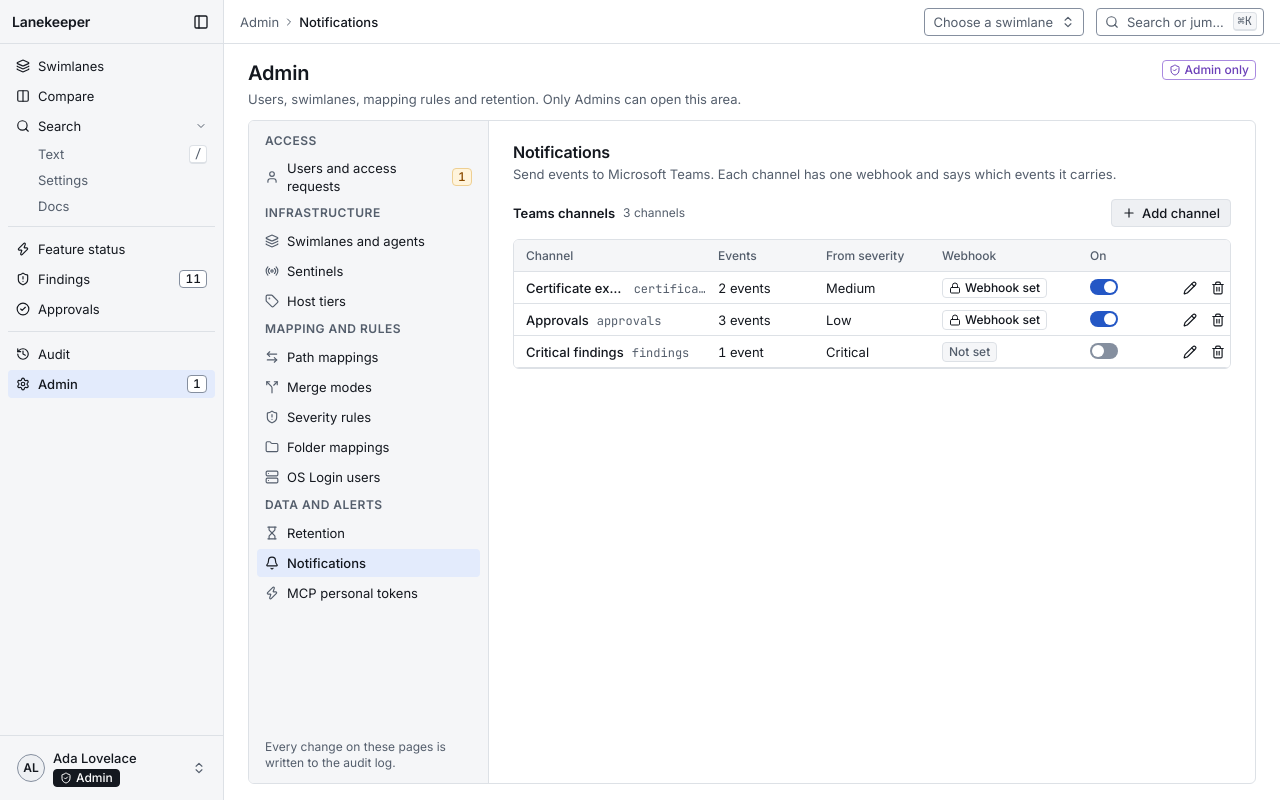
Test: saving a webhook › hides the address as it is typed, and shows it only while the person asks to
Expected: the heading "Admin" is shown, top-left (248, 61), bottom-right (309, 85)
Click the button "Add channel" at x=1171, y=213, box top-left (1111, 199), bottom-right (1231, 227)
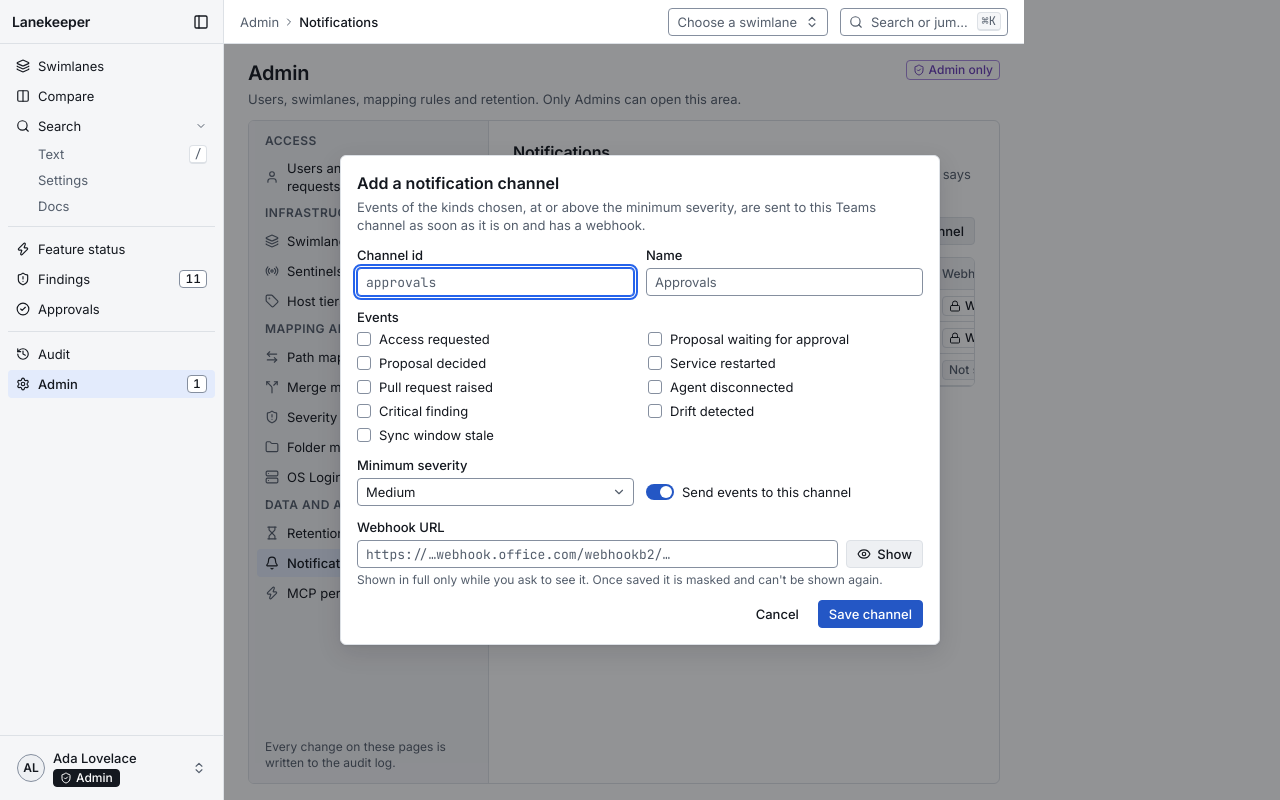
Click the password field labelled "Webhook URL" at x=598, y=554, box top-left (357, 540), bottom-right (838, 568)
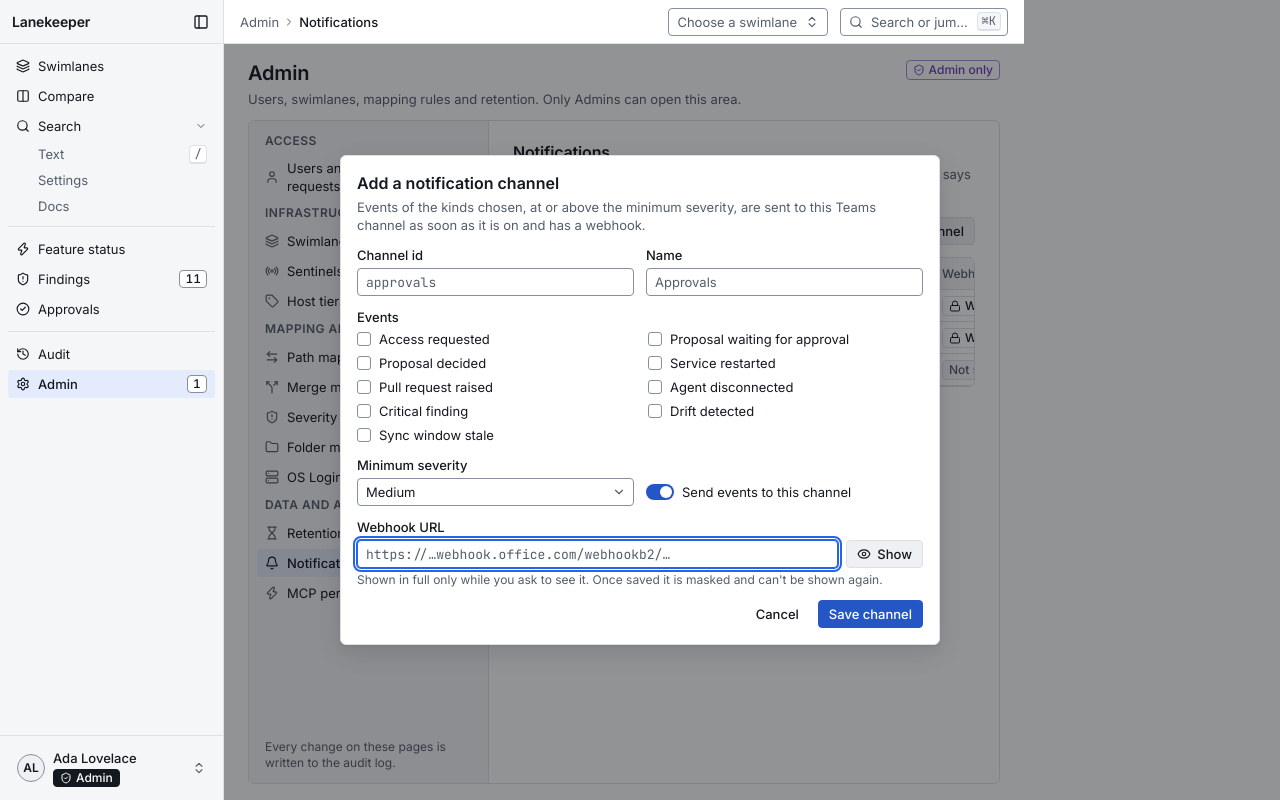
Type keys "https://corp.webhook.office.com/webhookb2/TOPSECRETPATH@tenant/IncomingWebhook/aaaa/bbbb"
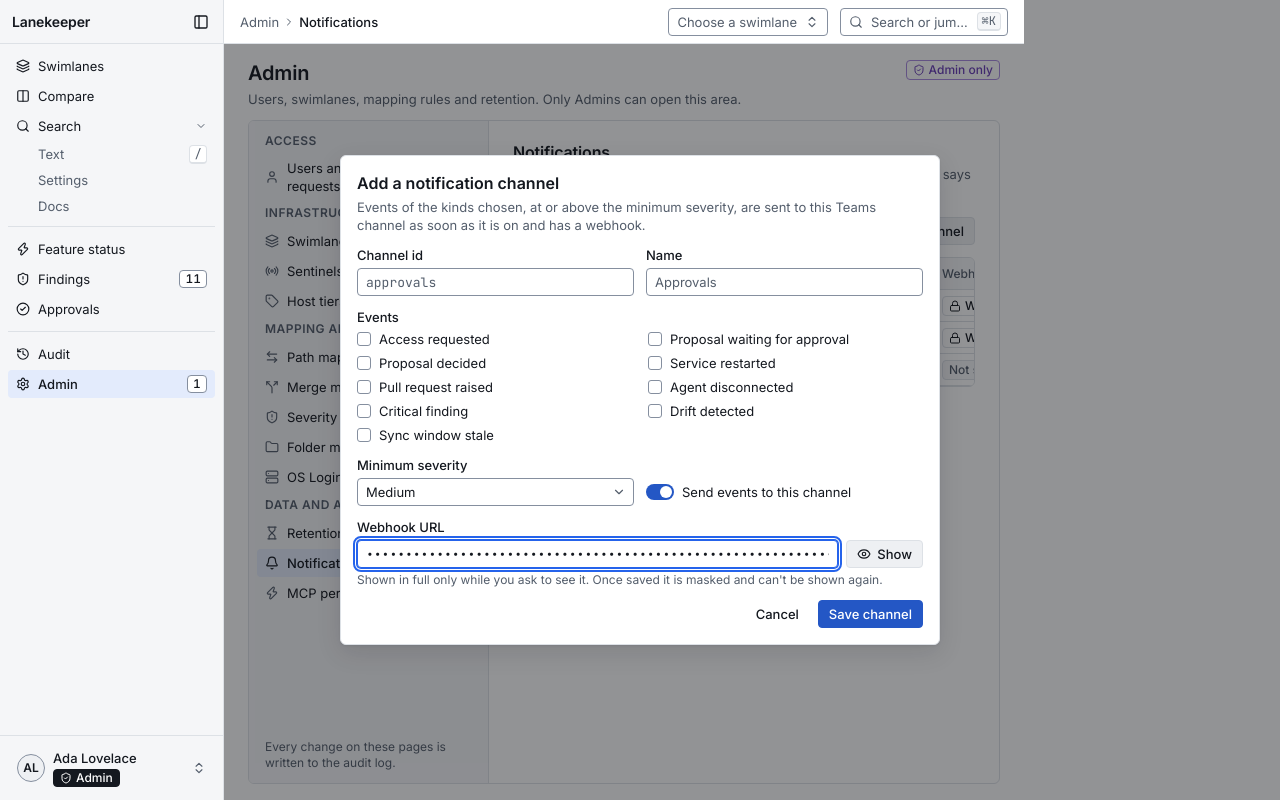
Click the button with aria-label "Show webhook URL" at x=885, y=554, box top-left (846, 540), bottom-right (923, 568)
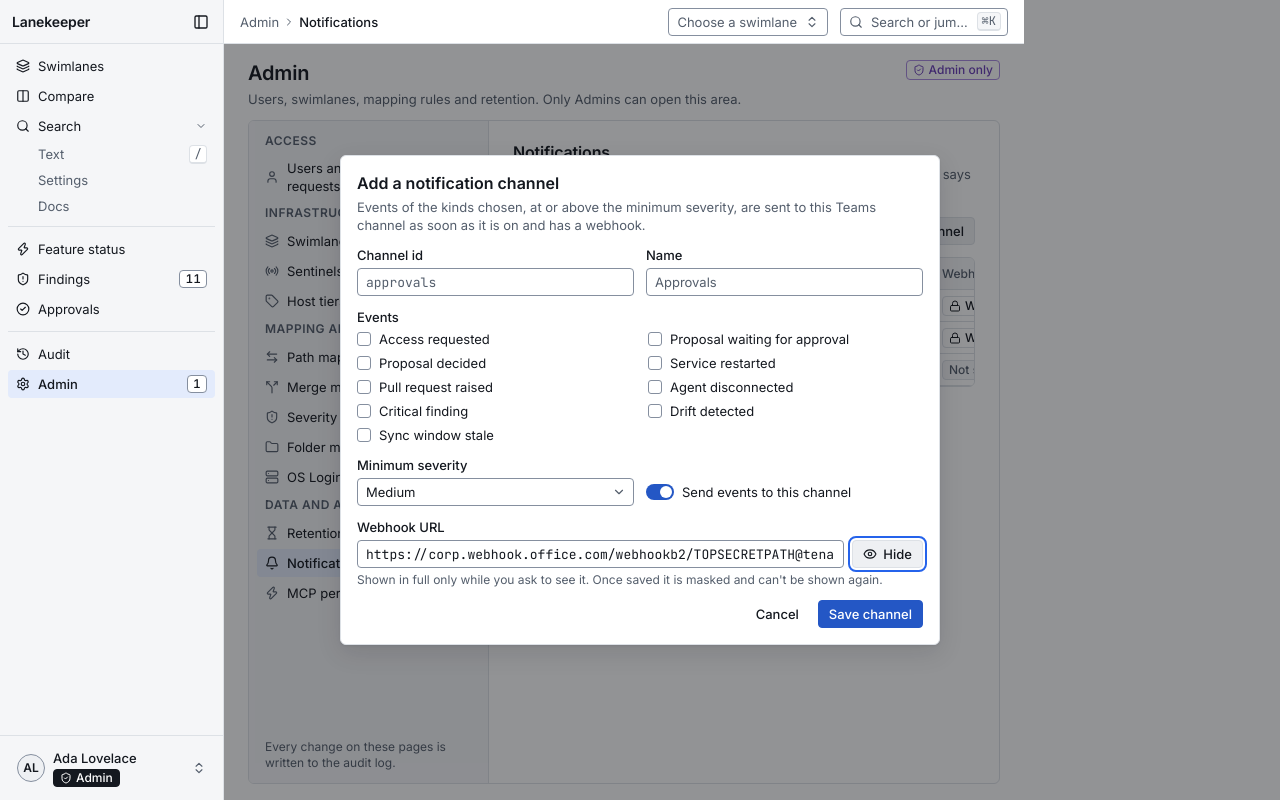
Result: the field labelled "Webhook URL" shows its text at top-left (357, 540), bottom-right (844, 568)
Click the button with aria-label "Hide webhook URL" at x=888, y=554, box top-left (852, 540), bottom-right (923, 568)
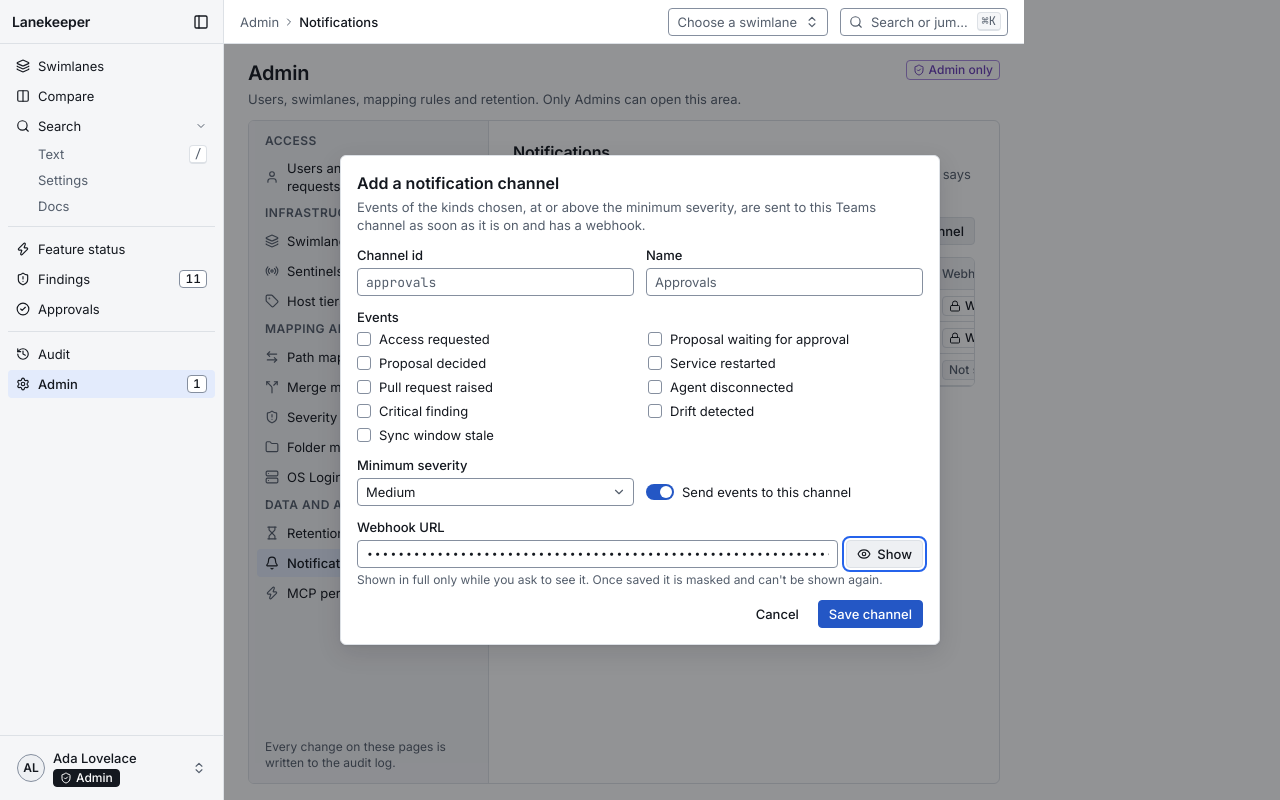
Result: the password field labelled "Webhook URL" hides its text at top-left (357, 540), bottom-right (838, 568)
